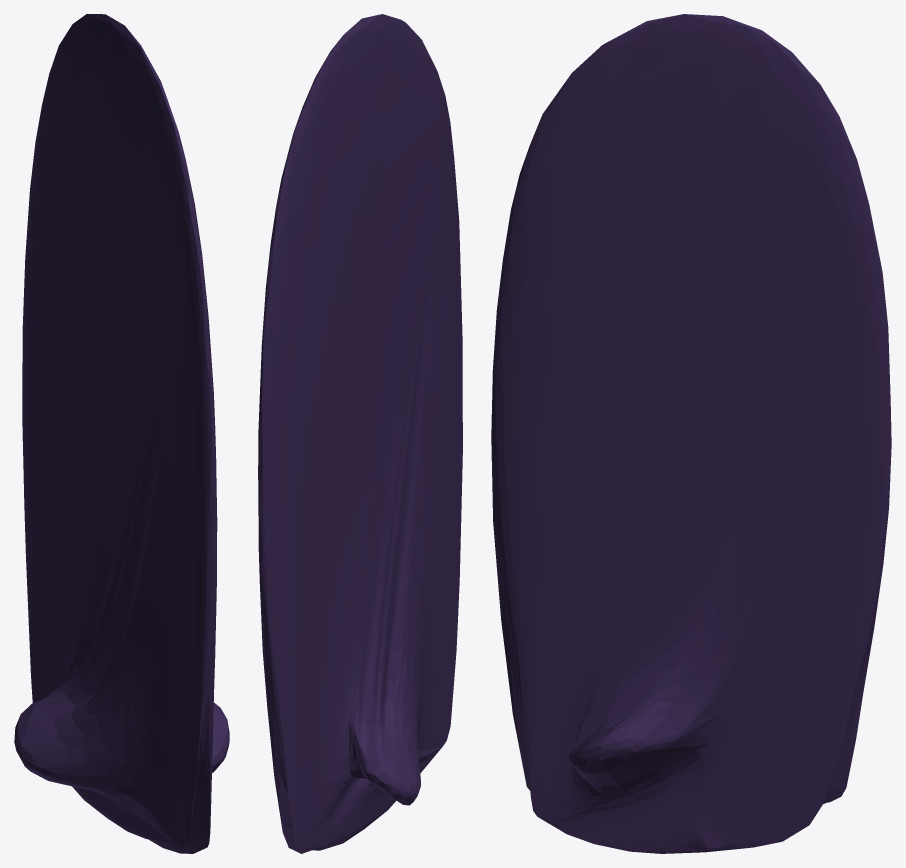
3 renders of one model, left to right at view 1: azimuth 30°, elevation 25°; view 2: azimuth 150°, elevation 25°; view 3: azimuth 270°, elevation 25°, orthographic. The views are drawn at different scales.
Visible parts, largest first — view 1: 058_Cube.239; view 2: 058_Cube.239; view 3: 058_Cube.239.
Part boxes in pixels (x1,y1,x2,y2): 058_Cube.239: (14,14,229,853); 058_Cube.239: (258,14,462,853); 058_Cube.239: (491,14,891,853).
Size of the model in its own units: 2 by 10.87 by 4.73.
